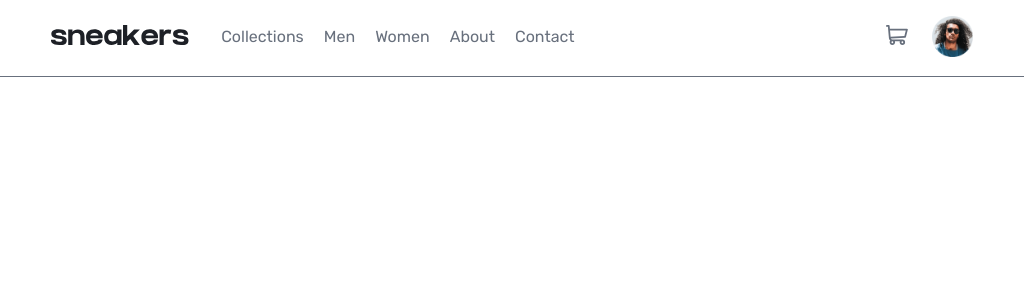
Test case: <Navbar/> › should toggle the shopping cart visibility when clicking the cart button
This screenshot has width=1024, height=300.
Click the button named "cart-icon" at (897, 36), box x1=886 y1=25 x2=908 y2=48
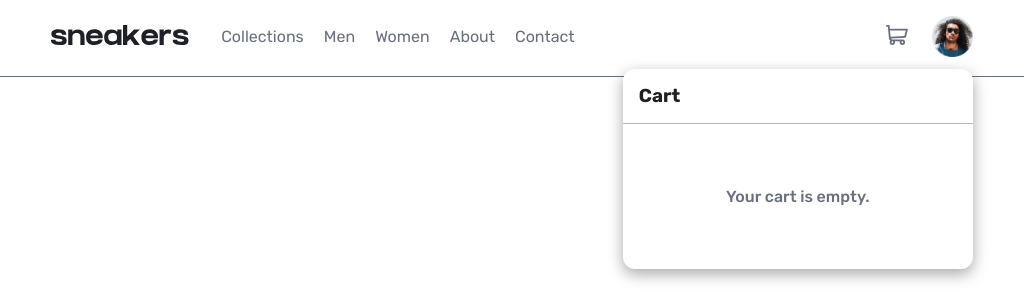
Expected: the element with test id "shopping-cart" is shown, x1=623 y1=69 x2=973 y2=269
Expected: the heading "Cart" is shown, x1=639 y1=85 x2=680 y2=107
Expected: the text "Your cart is empty." is shown, x1=726 y1=187 x2=870 y2=206
Click the button named "cart-icon" at (897, 36), box x1=886 y1=25 x2=908 y2=48
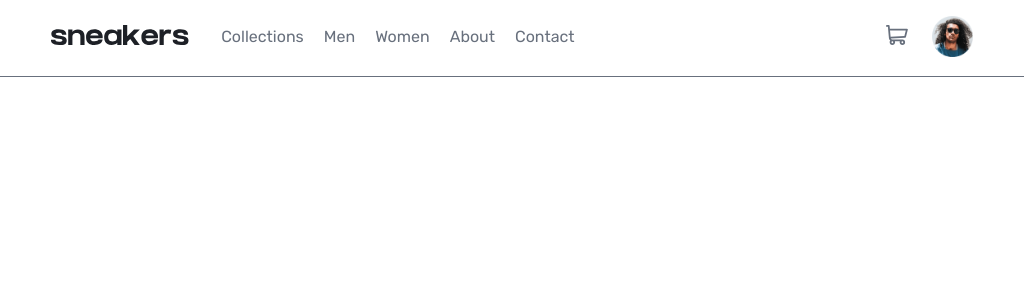
Expected: the element with test id "shopping-cart" is gone
